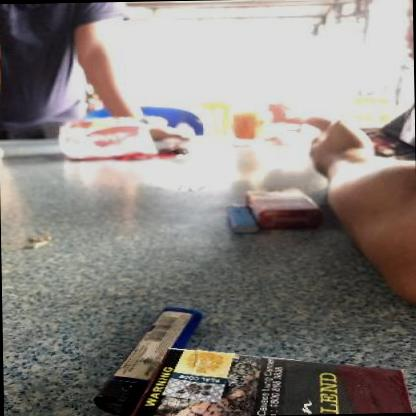objects: (131, 349, 413, 416), (246, 188, 322, 228)
